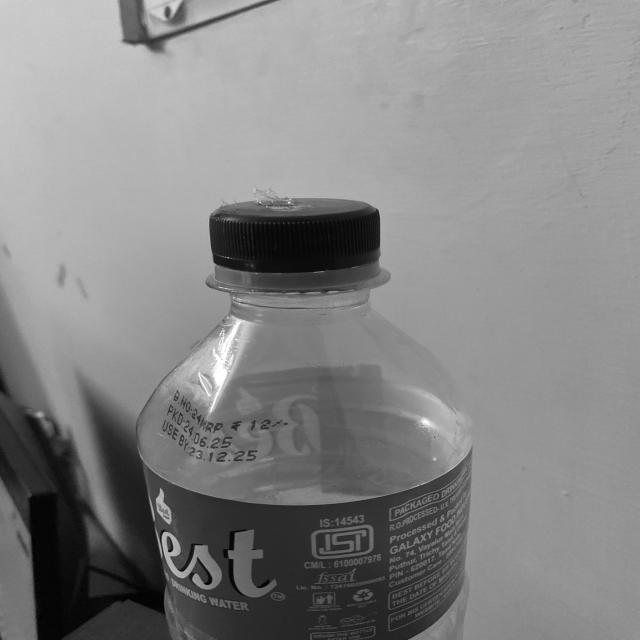Good-cap-Df0S: (204, 199, 390, 285)
